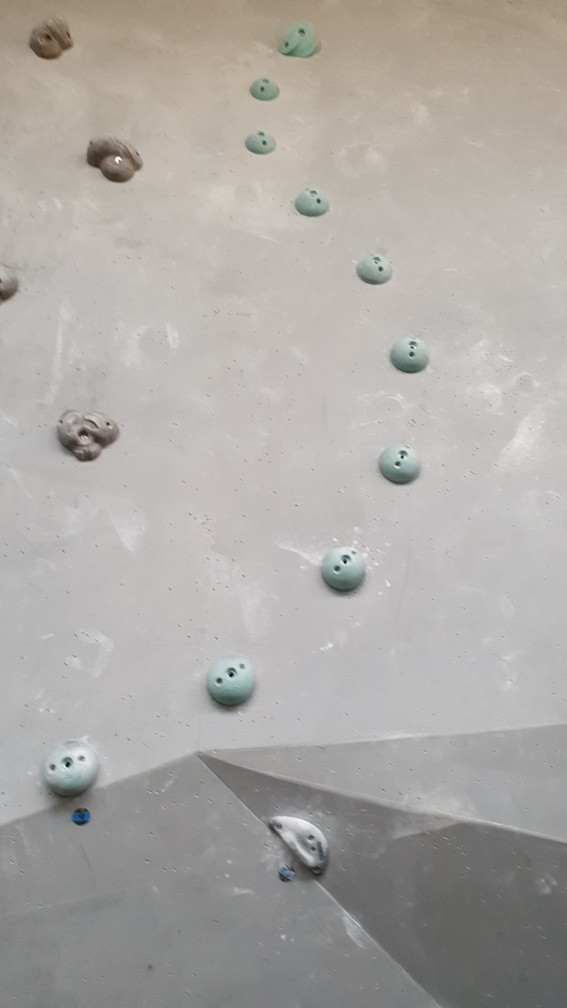Hand Start: (71, 805, 93, 827), (278, 864, 297, 883)
Jug: (57, 402, 122, 464), (85, 134, 148, 183), (277, 14, 324, 64), (28, 11, 76, 59)
Sloper: (43, 737, 102, 798), (206, 652, 257, 712), (323, 545, 370, 595), (377, 443, 423, 485), (388, 337, 432, 377), (358, 253, 396, 288), (294, 188, 334, 217), (244, 130, 277, 157), (250, 77, 280, 102)
